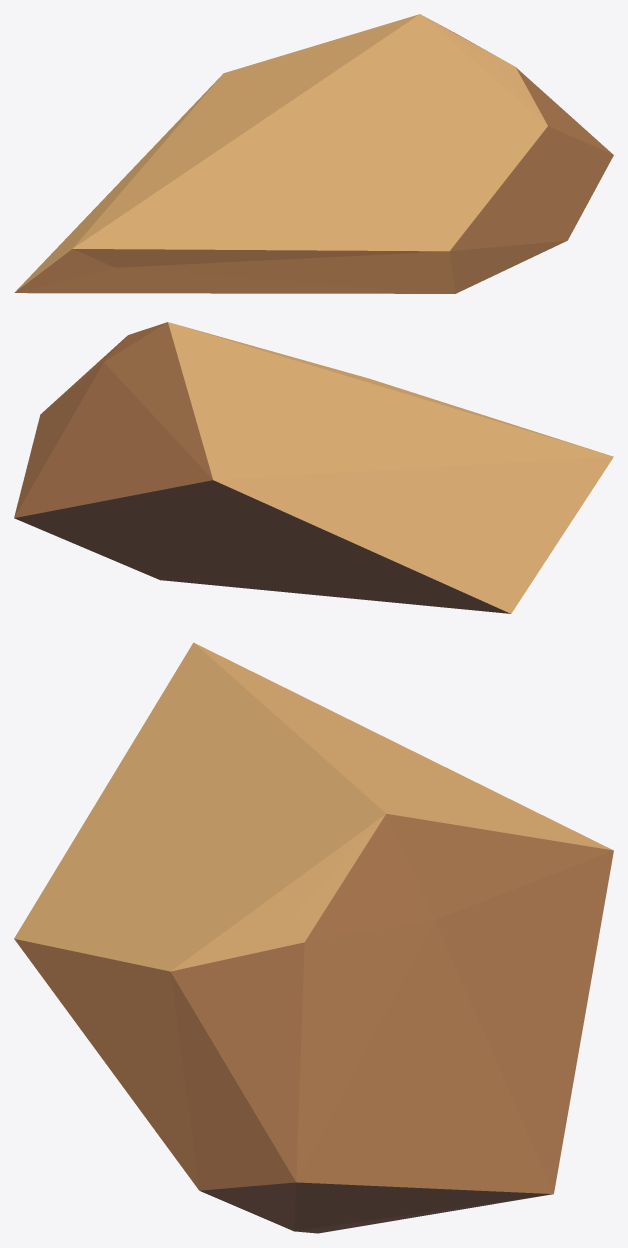
File: debris_rock_b.glb
The picture shows the model from 3 angles, top to bottom: view 1: azimuth 30°, elevation 25°; view 2: azimuth 150°, elevation 25°; view 3: azimuth 270°, elevation 25°; orthographic projection. The views are drawn at different scales.
Parts seen in each view (by area): view 1: debris_rock_b; view 2: debris_rock_b; view 3: debris_rock_b.
Boxes of the visible parts, box(x1,y1,x2,y2) form: debris_rock_b: box(14, 14, 613, 293); debris_rock_b: box(14, 322, 613, 613); debris_rock_b: box(14, 642, 613, 1233).
Size of the model in its own units: 1.86 by 0.8258 by 1.1.
